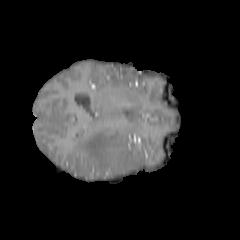glioma: (73, 127, 146, 177)
